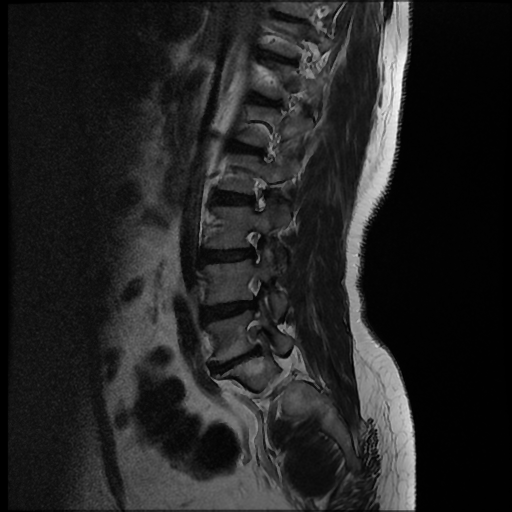RFS0: (235, 225, 274, 270)
